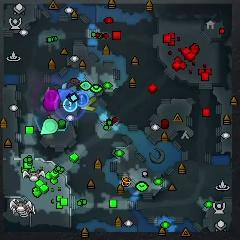Other: (63, 98, 77, 113), (77, 92, 90, 108)
p1: (58, 89, 75, 102)
p2: (40, 118, 58, 136)
p3: (43, 92, 60, 111)
x2: (80, 96, 97, 112)
